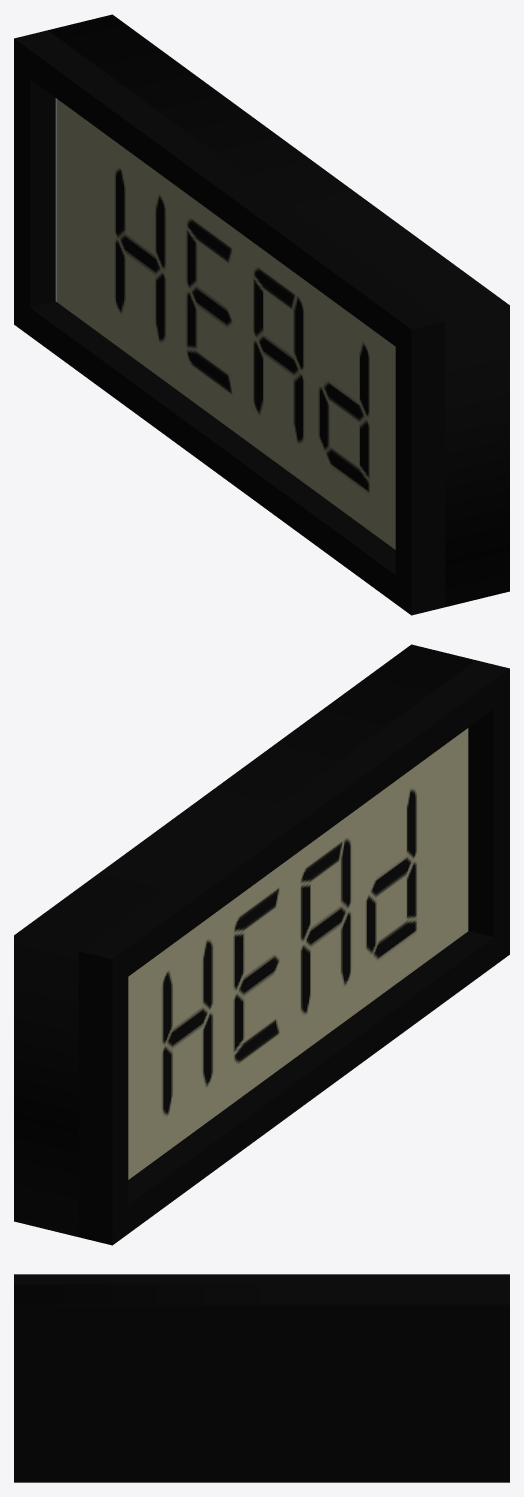
File: HEAd_display.fbx
3 views of the same model, one above another, from view 1: azimuth 30°, elevation 25°; view 2: azimuth 150°, elevation 25°; view 3: azimuth 270°, elevation 25° (orthographic). The views are drawn at different scales.
Visible parts, largest first — view 1: HEAd_display; view 2: HEAd_display; view 3: HEAd_display.
Part boxes in pixels (x1,y1,x2,y2): HEAd_display: (14, 14, 509, 615); HEAd_display: (14, 644, 509, 1245); HEAd_display: (14, 1274, 509, 1482).
Bounding box in the file's own units: 1.89 × 5.24 × 13.2.
Materials: 1 (1 with a texture image).
